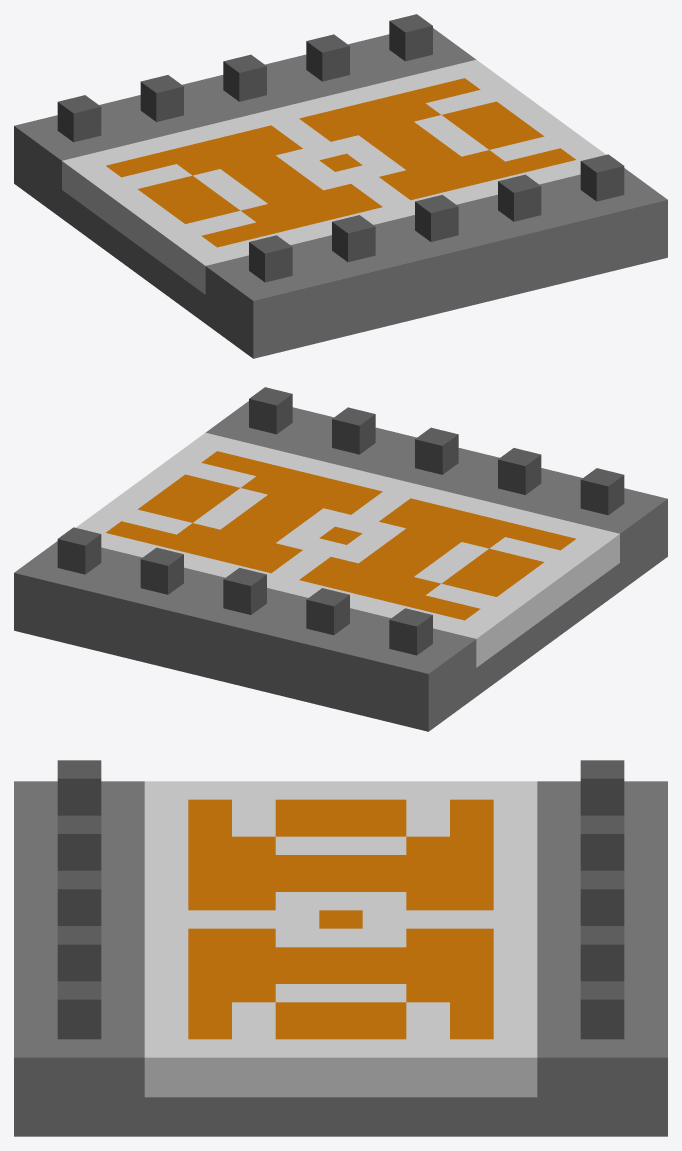
The model's file is BasketTile.obj.
3 renders of one model, top to bottom at view 1: azimuth 30°, elevation 25°; view 2: azimuth 150°, elevation 25°; view 3: azimuth 270°, elevation 25°, orthographic. The views are drawn at different scales.
Parts seen in each view (by area): view 1: BasketTile; view 2: BasketTile; view 3: BasketTile.
Part boxes in pixels (x1,y1,x2,y2): BasketTile: [14, 14, 667, 358]; BasketTile: [14, 387, 667, 731]; BasketTile: [14, 760, 667, 1136].
Bounding box in the file's own units: 1.5 × 0.3 × 1.5.
Materials: 1 (1 with a texture image).
